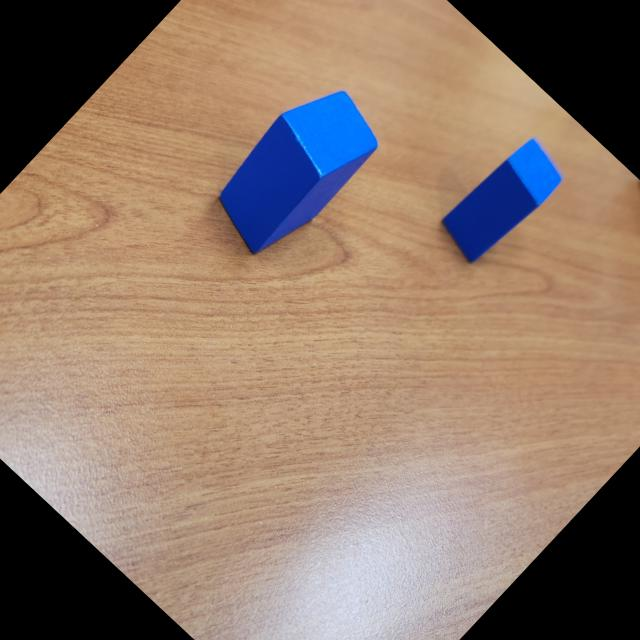blue: (197, 69, 392, 268), (434, 130, 572, 272)
